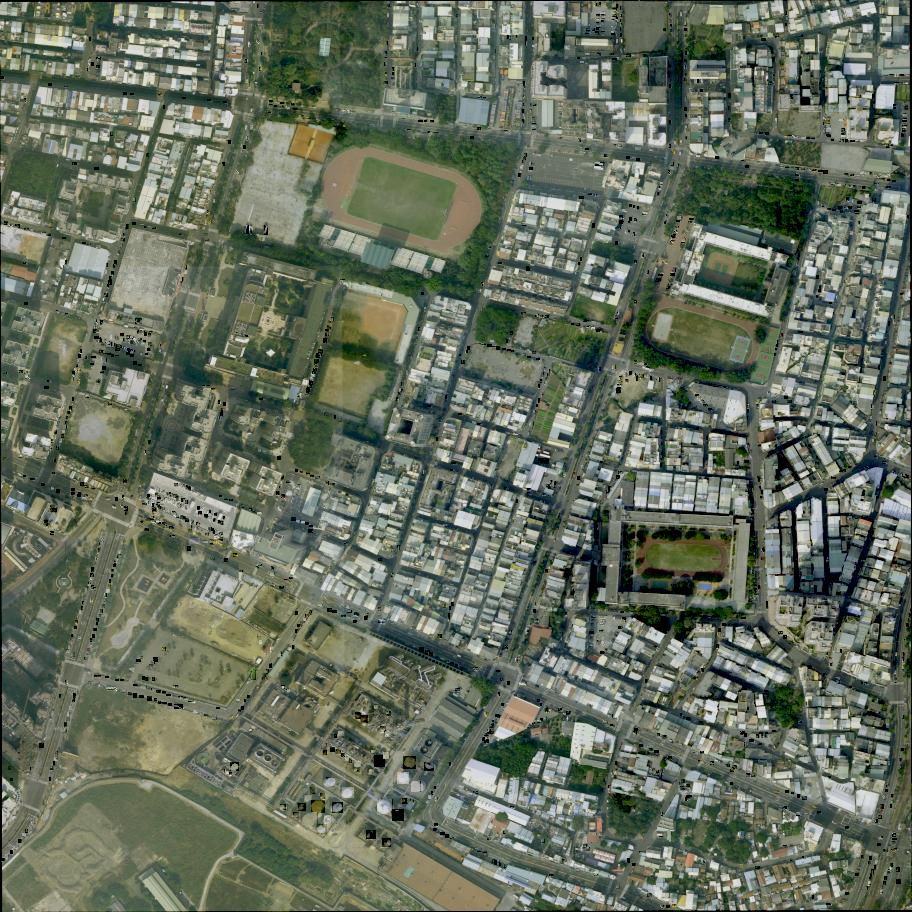large-vehicle: (643, 365, 653, 372), (190, 538, 201, 544), (539, 459, 550, 464), (174, 705, 184, 710), (252, 670, 257, 680), (595, 163, 604, 168), (264, 225, 268, 235), (39, 743, 45, 749), (246, 225, 250, 233), (594, 166, 601, 170), (263, 674, 267, 680), (107, 688, 116, 690), (519, 682, 525, 685), (112, 505, 116, 509), (65, 723, 68, 728), (267, 670, 270, 675), (379, 620, 385, 622), (188, 700, 194, 702), (145, 518, 150, 520), (802, 436, 806, 438), (250, 226, 251, 233), (526, 629, 528, 632), (689, 152, 692, 154), (642, 254, 644, 257), (95, 675, 100, 676), (696, 155, 698, 157), (301, 394, 302, 397), (298, 394, 299, 397), (516, 660, 517, 663), (680, 152, 681, 155), (681, 13, 681, 14), (174, 686, 175, 686)
small-vehicle: (442, 603, 447, 609), (316, 353, 321, 359), (124, 506, 129, 512), (896, 867, 901, 873), (896, 879, 901, 885), (185, 518, 190, 523), (153, 657, 158, 662), (278, 652, 283, 657), (218, 542, 223, 547), (354, 612, 359, 617), (425, 650, 430, 655), (487, 729, 492, 734), (489, 724, 494, 729), (318, 349, 323, 354), (16, 224, 21, 229), (778, 631, 783, 636), (783, 635, 788, 640), (900, 473, 905, 478), (346, 617, 352, 621), (66, 717, 70, 723), (883, 376, 887, 382), (530, 421, 534, 427), (173, 494, 178, 498), (183, 499, 187, 504), (213, 530, 217, 535), (216, 530, 220, 535), (220, 521, 224, 526), (188, 486, 192, 491), (188, 507, 192, 512), (277, 456, 282, 460), (184, 270, 188, 275), (163, 508, 168, 512), (134, 662, 139, 666), (136, 659, 141, 663), (187, 546, 191, 551), (144, 528, 149, 532), (271, 583, 276, 587), (210, 557, 215, 561), (233, 553, 238, 557), (473, 791, 478, 795), (494, 860, 498, 865), (281, 475, 285, 480), (327, 608, 332, 612), (378, 607, 382, 612), (250, 125, 254, 130), (228, 140, 232, 145), (328, 320, 333, 324), (307, 385, 312, 389), (309, 381, 313, 386), (331, 317, 335, 322), (341, 280, 345, 285), (311, 373, 316, 377), (326, 331, 330, 336), (96, 245, 101, 249), (108, 280, 112, 285), (104, 293, 108, 298), (162, 100, 166, 105), (93, 329, 97, 334), (118, 550, 122, 555), (102, 604, 106, 609), (63, 728, 67, 733), (71, 702, 75, 707), (69, 706, 73, 711), (128, 692, 133, 696), (134, 693, 138, 698), (78, 354, 82, 359), (3, 457, 8, 461), (115, 348, 120, 352), (56, 446, 60, 451), (797, 794, 802, 798), (812, 847, 816, 852), (892, 833, 896, 838), (883, 881, 887, 886), (725, 764, 730, 768), (663, 735, 667, 740), (710, 761, 714, 766), (755, 867, 760, 871), (683, 849, 688, 853), (874, 390, 878, 395), (866, 194, 870, 199), (857, 200, 862, 204), (88, 58, 92, 63), (824, 171, 829, 175), (839, 139, 844, 143), (826, 128, 831, 132), (546, 484, 550, 489), (213, 541, 219, 544), (24, 228, 30, 231), (94, 336, 100, 339), (155, 493, 159, 497), (164, 498, 168, 502), (190, 487, 194, 491), (191, 521, 195, 525), (205, 514, 209, 518), (214, 513, 218, 517), (155, 504, 159, 508), (175, 483, 179, 487), (262, 450, 266, 454), (198, 511, 202, 515), (153, 497, 157, 501), (156, 502, 160, 506), (162, 647, 166, 651), (131, 667, 135, 671), (129, 668, 133, 672), (241, 706, 245, 710), (259, 641, 263, 645), (276, 638, 280, 642), (213, 715, 217, 719), (100, 684, 104, 688), (145, 677, 149, 681), (217, 536, 221, 540), (203, 553, 207, 557), (188, 529, 192, 533), (271, 572, 275, 576), (224, 559, 228, 563), (150, 516, 154, 520), (162, 522, 166, 526), (151, 521, 155, 525), (446, 834, 450, 838), (434, 823, 438, 827), (308, 529, 312, 533), (535, 685, 539, 689), (420, 648, 424, 652), (429, 652, 433, 656), (507, 681, 511, 685), (498, 715, 502, 719), (190, 242, 194, 246), (307, 388, 311, 392), (313, 368, 317, 372), (148, 697, 152, 701), (146, 154, 150, 158), (97, 66, 101, 70), (19, 370, 23, 374), (132, 222, 136, 226), (106, 589, 110, 593), (90, 573, 94, 577), (115, 497, 119, 501), (10, 851, 14, 855), (86, 653, 90, 657), (12, 816, 16, 820), (134, 337, 138, 341), (134, 361, 138, 365), (99, 350, 103, 354), (81, 482, 85, 486), (126, 352, 130, 356), (59, 440, 63, 444), (516, 495, 520, 499), (783, 806, 787, 810), (796, 812, 800, 816), (756, 734, 760, 738), (704, 665, 708, 669), (789, 641, 793, 645), (845, 826, 849, 830), (757, 476, 761, 480), (686, 784, 690, 788), (681, 779, 685, 783), (644, 746, 648, 750), (714, 384, 718, 388), (869, 415, 873, 419), (848, 205, 852, 209), (836, 680, 840, 684), (91, 62, 95, 66), (160, 489, 163, 494), (214, 518, 217, 523), (239, 505, 244, 508), (151, 502, 154, 507), (309, 610, 312, 615), (172, 695, 177, 698), (143, 676, 146, 681), (152, 677, 155, 682), (208, 539, 213, 542), (296, 611, 299, 616), (493, 859, 496, 864), (321, 601, 326, 604), (353, 620, 358, 623), (482, 737, 485, 742), (325, 412, 328, 417), (285, 106, 290, 109), (318, 353, 323, 356), (94, 168, 99, 171), (44, 386, 49, 389), (91, 585, 94, 590), (83, 596, 86, 601), (139, 498, 144, 501), (50, 532, 55, 535), (90, 643, 93, 648), (139, 696, 144, 699), (93, 634, 96, 639), (81, 484, 86, 487), (55, 430, 58, 435), (812, 807, 817, 810), (875, 859, 878, 864), (891, 799, 894, 804), (787, 400, 792, 403), (891, 315, 894, 320), (903, 107, 908, 110), (850, 140, 855, 143), (176, 497, 179, 501), (182, 499, 185, 503), (175, 502, 178, 506), (155, 488, 158, 492), (218, 521, 221, 525), (186, 485, 189, 489), (258, 449, 262, 452), (224, 403, 227, 407), (207, 386, 211, 389), (148, 494, 151, 498), (220, 533, 224, 536), (218, 532, 221, 536), (162, 507, 165, 511), (139, 656, 143, 659), (193, 711, 197, 714), (137, 657, 141, 660), (301, 622, 304, 626), (168, 703, 172, 706), (115, 679, 119, 682), (157, 690, 160, 694), (205, 533, 209, 536), (164, 525, 167, 529), (193, 532, 197, 535), (450, 836, 454, 839), (460, 785, 464, 788), (333, 611, 337, 614), (429, 796, 432, 800), (276, 491, 279, 495), (281, 495, 285, 498), (364, 617, 368, 620), (365, 614, 369, 617), (478, 848, 481, 852), (537, 699, 541, 702), (473, 668, 477, 671), (438, 634, 441, 638), (491, 732, 495, 735), (498, 692, 501, 696), (456, 689, 460, 692), (544, 716, 547, 720), (384, 81, 387, 85), (215, 173, 218, 177), (245, 126, 248, 130), (226, 137, 229, 141), (315, 360, 319, 363), (325, 329, 329, 332), (338, 417, 341, 421), (295, 469, 299, 472), (316, 476, 319, 480), (335, 109, 339, 112), (329, 319, 333, 322), (328, 325, 331, 329), (324, 338, 327, 342), (313, 371, 316, 375), (48, 84, 52, 87), (73, 162, 77, 165), (4, 222, 8, 225), (24, 303, 28, 306), (82, 242, 86, 245), (145, 332, 148, 336), (148, 343, 152, 346), (127, 335, 130, 339), (64, 401, 67, 405), (25, 376, 29, 379), (108, 584, 111, 588), (84, 495, 88, 498), (57, 489, 60, 493), (41, 483, 45, 486), (9, 766, 12, 770), (68, 645, 71, 649), (82, 602, 85, 606), (6, 855, 9, 859), (100, 321, 103, 325), (121, 333, 124, 337), (62, 431, 66, 434), (85, 395, 89, 398), (61, 434, 64, 438), (71, 492, 75, 495), (76, 364, 79, 368), (775, 790, 779, 793), (731, 782, 734, 786), (802, 797, 806, 800), (758, 585, 761, 589), (750, 739, 754, 742), (881, 889, 884, 893), (894, 678, 897, 682), (887, 871, 890, 875), (856, 873, 859, 877), (884, 849, 888, 852), (730, 770, 734, 773), (732, 766, 736, 769), (639, 744, 643, 747), (649, 748, 653, 751), (666, 906, 670, 909), (660, 905, 664, 908), (685, 797, 688, 801), (681, 787, 685, 790), (633, 732, 637, 735), (657, 733, 661, 736), (774, 394, 778, 397), (818, 289, 821, 293), (785, 396, 788, 400), (700, 401, 704, 404), (851, 232, 854, 236), (821, 203, 824, 207), (832, 209, 836, 212), (906, 623, 909, 627), (828, 575, 832, 578), (760, 626, 763, 630), (722, 623, 726, 626), (832, 476, 836, 479), (844, 469, 847, 473), (824, 489, 828, 492), (826, 558, 829, 562), (902, 128, 906, 131), (865, 682, 868, 686), (837, 649, 840, 653), (761, 38, 765, 41), (812, 169, 816, 172), (841, 128, 845, 131), (230, 387, 235, 389), (169, 526, 174, 528), (170, 535, 175, 537), (341, 615, 346, 617), (330, 483, 335, 485), (306, 117, 311, 119), (275, 102, 280, 104), (109, 256, 111, 261), (137, 339, 142, 341), (64, 425, 66, 430), (754, 588, 756, 593), (756, 404, 758, 409), (703, 383, 708, 385), (888, 321, 890, 326), (845, 211, 850, 213), (886, 186, 891, 188), (729, 93, 731, 98), (183, 517, 186, 520), (150, 664, 153, 667), (147, 498, 150, 501), (295, 583, 298, 586), (157, 520, 160, 523), (434, 829, 437, 832), (426, 800, 429, 803), (293, 494, 296, 497), (292, 518, 295, 521), (447, 617, 450, 620), (485, 733, 488, 736), (489, 735, 492, 738), (316, 356, 319, 359), (326, 482, 329, 485), (311, 377, 314, 380), (371, 124, 374, 127), (155, 699, 158, 702), (148, 349, 151, 352), (148, 345, 151, 348), (83, 497, 86, 500), (106, 497, 109, 500), (10, 779, 13, 782), (23, 833, 26, 836), (131, 354, 134, 357), (109, 402, 112, 405), (379, 558, 382, 561), (747, 773, 750, 776), (808, 444, 811, 447), (796, 646, 799, 649), (878, 815, 881, 818), (687, 717, 690, 720), (716, 645, 719, 648), (648, 894, 651, 897), (660, 464, 663, 467), (883, 461, 886, 464), (873, 199, 876, 202), (902, 664, 905, 667), (815, 462, 818, 465), (828, 579, 831, 582), (825, 590, 828, 593), (746, 166, 749, 169), (796, 167, 799, 170), (221, 412, 223, 416), (151, 500, 155, 502), (177, 513, 179, 517), (167, 508, 169, 512), (270, 664, 272, 668), (200, 713, 204, 715), (214, 710, 218, 712), (216, 707, 220, 709), (143, 687, 147, 689), (167, 694, 171, 696), (441, 832, 445, 834), (318, 604, 322, 606), (446, 660, 450, 662), (429, 636, 433, 638), (451, 602, 453, 606), (503, 685, 505, 689), (537, 721, 541, 723), (245, 59, 247, 63), (387, 13, 389, 17), (269, 100, 273, 102), (163, 105, 165, 109), (223, 162, 225, 166), (310, 475, 314, 477), (62, 237, 66, 239), (158, 93, 162, 95), (115, 260, 117, 264), (148, 333, 150, 337), (163, 29, 167, 31), (121, 243, 123, 247), (109, 579, 111, 583), (121, 541, 123, 545), (81, 606, 83, 610), (100, 609, 102, 613), (89, 582, 91, 586), (140, 495, 144, 497), (149, 331, 153, 333), (110, 334, 112, 338), (164, 352, 166, 356), (138, 364, 142, 366), (131, 340, 133, 344), (90, 363, 94, 365), (92, 356, 96, 358), (77, 495, 81, 497), (788, 859, 792, 861), (854, 878, 856, 882), (761, 734, 763, 738), (766, 601, 768, 605), (890, 804, 892, 808), (888, 761, 890, 765), (874, 865, 876, 869), (892, 838, 896, 840), (699, 759, 703, 761), (704, 616, 708, 618), (576, 869, 580, 871), (678, 786, 680, 790), (652, 768, 654, 772), (772, 401, 776, 403), (816, 275, 818, 279), (706, 436, 708, 440), (841, 282, 843, 286), (798, 331, 802, 333), (862, 187, 866, 189), (844, 208, 848, 210), (838, 207, 842, 209), (895, 652, 897, 656), (742, 617, 746, 619), (775, 124, 777, 128), (873, 94, 875, 98), (840, 649, 842, 653), (869, 66, 871, 70), (756, 162, 760, 164), (795, 179, 799, 181), (765, 133, 769, 135), (839, 119, 843, 121), (841, 133, 845, 135), (826, 125, 830, 127), (538, 384, 540, 388), (546, 377, 548, 381), (171, 493, 173, 496), (166, 498, 168, 501), (211, 529, 214, 531), (198, 507, 200, 510), (179, 483, 181, 486), (258, 512, 261, 514), (149, 441, 151, 444), (260, 398, 263, 400), (273, 409, 276, 411), (153, 509, 156, 511), (168, 510, 170, 513), (190, 520, 192, 523), (134, 684, 137, 686), (106, 676, 109, 678), (152, 662, 155, 664), (148, 688, 151, 690), (162, 691, 165, 693), (304, 618, 306, 621), (196, 550, 199, 552), (296, 629, 298, 632), (280, 587, 283, 589), (256, 566, 259, 568), (348, 610, 351, 612), (504, 864, 506, 867), (314, 527, 317, 529), (451, 662, 454, 664), (398, 546, 400, 549), (485, 737, 487, 740), (484, 740, 486, 743), (495, 715, 498, 717), (281, 102, 284, 104), (293, 108, 296, 110), (206, 239, 209, 241), (206, 220, 208, 223), (314, 362, 316, 365), (351, 111, 354, 113), (317, 118, 320, 120), (224, 101, 227, 103), (8, 224, 11, 226), (48, 234, 51, 236), (127, 225, 129, 228), (105, 271, 107, 274), (109, 277, 111, 280), (77, 311, 80, 313), (62, 406, 64, 409), (111, 132, 113, 135), (122, 239, 125, 241), (114, 561, 116, 564), (85, 588, 87, 591), (90, 578, 92, 581), (52, 488, 55, 490), (144, 503, 147, 505), (49, 777, 51, 780), (51, 767, 53, 770), (19, 840, 21, 843), (72, 699, 74, 702), (123, 690, 126, 692), (89, 682, 92, 684), (13, 847, 15, 850), (16, 844, 18, 847), (32, 821, 34, 824), (1, 859, 4, 861), (86, 485, 89, 487), (87, 377, 90, 379), (134, 327, 137, 329), (141, 341, 143, 344), (100, 339, 102, 342), (104, 351, 107, 353), (108, 353, 111, 355), (112, 355, 115, 357), (72, 488, 75, 490), (78, 493, 81, 495), (73, 479, 76, 481), (80, 350, 82, 353), (78, 368, 81, 370), (73, 371, 75, 374), (444, 524, 447, 526), (869, 881, 871, 884), (761, 490, 763, 493), (789, 500, 792, 502), (881, 805, 883, 808), (902, 748, 904, 751), (894, 662, 896, 665), (861, 682, 864, 684), (832, 822, 835, 824), (865, 887, 867, 890), (877, 844, 880, 846), (669, 756, 672, 758), (821, 280, 823, 283), (710, 411, 713, 413), (830, 663, 832, 666), (900, 293, 903, 295), (887, 179, 890, 181), (858, 206, 861, 208), (827, 208, 830, 210), (816, 456, 818, 459), (907, 573, 909, 576), (902, 658, 904, 661), (765, 732, 768, 734), (760, 732, 763, 734), (903, 473, 905, 476), (870, 531, 872, 534), (851, 174, 854, 176), (775, 118, 777, 121), (728, 119, 730, 122), (786, 166, 789, 168), (823, 130, 825, 133), (831, 139, 834, 141), (845, 140, 848, 142), (842, 135, 845, 137), (754, 133, 757, 135), (798, 136, 801, 138), (826, 132, 829, 134), (527, 489, 530, 491), (203, 542, 208, 543), (654, 751, 659, 752), (903, 105, 908, 106), (883, 75, 888, 76), (902, 121, 907, 122), (895, 74, 900, 75), (159, 702, 161, 704), (210, 528, 212, 530), (223, 516, 225, 518), (182, 484, 183, 488), (253, 510, 255, 512), (219, 400, 220, 404), (224, 498, 228, 499), (209, 517, 211, 519), (138, 685, 140, 687), (271, 648, 273, 650), (204, 715, 208, 716), (121, 680, 123, 682), (214, 537, 216, 539), (140, 521, 142, 523), (158, 498, 160, 500), (272, 567, 274, 569), (186, 265, 187, 269), (280, 482, 282, 484), (306, 523, 308, 525), (354, 615, 356, 617), (434, 787, 436, 789), (540, 719, 542, 721), (449, 613, 450, 617), (309, 384, 311, 386), (306, 391, 308, 393), (49, 227, 51, 229), (25, 98, 26, 102), (87, 67, 88, 71), (97, 58, 101, 59), (145, 353, 147, 355), (60, 314, 64, 315), (4, 372, 6, 374), (25, 371, 27, 373), (47, 380, 49, 382), (99, 615, 101, 617), (124, 480, 126, 482), (144, 451, 146, 453), (123, 496, 124, 500), (99, 548, 100, 552), (97, 553, 99, 555), (95, 629, 97, 631), (55, 757, 57, 759), (63, 732, 64, 736), (87, 649, 89, 651), (75, 627, 77, 629), (80, 610, 81, 614), (96, 623, 98, 625), (73, 653, 74, 657), (24, 475, 26, 477), (159, 350, 161, 352), (50, 446, 52, 448), (54, 458, 55, 462), (131, 496, 133, 498), (107, 346, 111, 347), (70, 407, 72, 409), (51, 439, 52, 443), (759, 743, 761, 745), (786, 791, 788, 793), (800, 720, 802, 722), (754, 598, 756, 600), (761, 549, 763, 551), (809, 666, 811, 668), (741, 732, 743, 734), (876, 820, 878, 822), (861, 856, 863, 858), (702, 669, 704, 671), (719, 628, 720, 632), (617, 886, 619, 888), (672, 905, 676, 906), (740, 865, 744, 866), (688, 796, 690, 798), (682, 614, 684, 616), (818, 275, 819, 279), (830, 302, 832, 304), (744, 461, 748, 462), (797, 258, 799, 260), (834, 312, 835, 316), (875, 455, 877, 457), (840, 211, 842, 213), (872, 440, 874, 442), (893, 180, 895, 182), (858, 222, 860, 224), (849, 593, 851, 595), (899, 602, 901, 604), (897, 639, 898, 643), (838, 604, 839, 608), (861, 558, 862, 562), (829, 578, 833, 579), (822, 472, 824, 474), (849, 466, 851, 468), (825, 518, 826, 522), (870, 172, 872, 174), (894, 107, 896, 109), (902, 118, 906, 119), (903, 125, 907, 126), (887, 146, 889, 148), (836, 648, 837, 652), (773, 58, 775, 60), (883, 144, 887, 145), (819, 170, 823, 171), (847, 185, 849, 187), (819, 83, 821, 85), (823, 118, 825, 120), (826, 123, 830, 124), (826, 135, 830, 136), (617, 39, 618, 43), (539, 399, 540, 403), (694, 678, 697, 679), (182, 506, 183, 509), (158, 489, 159, 492), (198, 523, 199, 526), (208, 510, 209, 513), (229, 500, 232, 501), (284, 445, 285, 448), (222, 408, 223, 411), (210, 510, 211, 513), (222, 522, 223, 525), (181, 516, 182, 519), (219, 718, 222, 719), (183, 698, 186, 699), (220, 538, 223, 539), (162, 491, 163, 494), (239, 571, 242, 572), (289, 578, 292, 579), (500, 863, 501, 866), (550, 875, 553, 876), (488, 838, 491, 839), (432, 792, 433, 795), (302, 522, 305, 523), (297, 521, 300, 522), (392, 573, 393, 576), (450, 607, 451, 610), (287, 482, 290, 483), (259, 68, 260, 71), (386, 51, 387, 54), (393, 68, 394, 71), (257, 5, 258, 8), (244, 146, 245, 149), (209, 220, 210, 223), (214, 200, 215, 203), (209, 191, 210, 194), (223, 213, 224, 216), (280, 106, 283, 107), (310, 379, 311, 382), (312, 107, 315, 108), (328, 328, 331, 329), (1, 77, 4, 78), (183, 97, 186, 98), (207, 99, 210, 100), (88, 243, 91, 244), (124, 93, 127, 94), (89, 38, 90, 41), (66, 261, 67, 264), (113, 264, 114, 267), (197, 65, 200, 66), (179, 234, 182, 235), (94, 588, 95, 591), (105, 593, 106, 596), (114, 564, 115, 567), (112, 574, 113, 577), (102, 538, 103, 541), (26, 829, 27, 832), (54, 762, 55, 765), (56, 752, 57, 755), (68, 713, 69, 716), (74, 694, 75, 697), (67, 651, 68, 654), (103, 367, 106, 368), (103, 339, 104, 342), (72, 378, 73, 381), (20, 456, 23, 457), (108, 342, 109, 345), (753, 521, 754, 524), (753, 570, 754, 573), (766, 606, 767, 609), (892, 794, 893, 797), (881, 811, 882, 814), (882, 886, 883, 889), (846, 893, 849, 894), (872, 871, 873, 874), (891, 864, 892, 867), (885, 877, 886, 880), (870, 856, 871, 859), (812, 896, 813, 899), (687, 788, 690, 789), (700, 752, 703, 753), (694, 752, 697, 753), (708, 616, 711, 617), (819, 286, 820, 289), (782, 333, 783, 336), (767, 391, 768, 394), (777, 344, 778, 347), (661, 431, 662, 434), (699, 399, 702, 400), (709, 409, 712, 410), (723, 387, 726, 388), (856, 212, 859, 213), (885, 418, 888, 419), (881, 179, 884, 180), (859, 186, 862, 187), (875, 432, 876, 435), (764, 691, 767, 692), (846, 514, 849, 515), (873, 100, 874, 103), (872, 105, 873, 108), (807, 137, 810, 138), (811, 137, 814, 138), (716, 157, 719, 158), (796, 174, 799, 175), (827, 136, 830, 137), (541, 380, 542, 383), (549, 485, 550, 488), (176, 496, 178, 497), (180, 498, 181, 500), (160, 497, 161, 499), (162, 497, 163, 499), (169, 499, 171, 500), (171, 501, 173, 502), (178, 504, 179, 506), (184, 507, 185, 509), (211, 513, 212, 515), (184, 485, 185, 487), (249, 510, 251, 511), (197, 511, 198, 513), (160, 503, 162, 504), (153, 505, 154, 507), (158, 506, 160, 507), (159, 507, 160, 509), (245, 699, 246, 701), (239, 710, 241, 711), (238, 700, 240, 701), (307, 615, 308, 617), (297, 626, 299, 627), (159, 494, 161, 495), (276, 585, 277, 587), (292, 646, 294, 647), (498, 861, 500, 862), (541, 704, 542, 706), (440, 635, 441, 637), (501, 678, 502, 680), (546, 709, 547, 711), (511, 807, 513, 808), (487, 740, 488, 742), (503, 704, 504, 706), (485, 713, 487, 714), (297, 484, 299, 485), (249, 43, 250, 45), (257, 40, 258, 42), (388, 4, 389, 6), (392, 78, 394, 79), (275, 105, 276, 107), (306, 473, 308, 474), (306, 393, 308, 394), (301, 472, 303, 473), (321, 347, 322, 349), (315, 365, 317, 366), (134, 199, 135, 201), (64, 266, 65, 268), (108, 285, 109, 287), (143, 332, 144, 334), (140, 331, 142, 332), (138, 331, 139, 333), (112, 272, 113, 274), (118, 251, 119, 253), (62, 411, 63, 413), (117, 556, 118, 558), (113, 569, 114, 571), (104, 599, 105, 601), (97, 620, 98, 622), (91, 639, 92, 641), (53, 473, 55, 474), (92, 569, 93, 571), (60, 696, 61, 698), (72, 635, 73, 637), (103, 369, 105, 370), (144, 341, 146, 342), (121, 346, 122, 348), (101, 371, 103, 372), (78, 360, 79, 362), (129, 350, 130, 352), (72, 399, 73, 401), (57, 426, 58, 428), (100, 337, 101, 339), (105, 359, 106, 361), (818, 812, 820, 813), (752, 525, 753, 527), (761, 558, 762, 560), (827, 653, 828, 655), (830, 658, 832, 659), (895, 848, 896, 850), (886, 789, 887, 791), (892, 850, 894, 851), (868, 863, 869, 865), (802, 857, 804, 858), (788, 845, 790, 846), (759, 487, 761, 488), (759, 480, 760, 482), (680, 714, 682, 715), (635, 729, 637, 730), (690, 795, 692, 796), (737, 462, 739, 463), (775, 354, 776, 356), (749, 454, 750, 456), (712, 616, 714, 617), (907, 216, 908, 218), (847, 198, 848, 200), (835, 626, 836, 628), (834, 629, 835, 631), (743, 732, 744, 734), (877, 496, 878, 498), (907, 476, 908, 478), (905, 475, 906, 477), (870, 535, 871, 537), (904, 83, 906, 84), (902, 133, 904, 134), (800, 35, 802, 36), (787, 18, 788, 20), (780, 165, 782, 166), (828, 183, 829, 185), (832, 183, 834, 184), (843, 184, 845, 185), (760, 133, 762, 134), (621, 49, 622, 51), (537, 404, 538, 406), (553, 486, 554, 488), (173, 502, 174, 503), (179, 506, 180, 507), (196, 524, 197, 525), (248, 696, 249, 697), (258, 638, 259, 639), (186, 502, 187, 503), (170, 493, 171, 494), (436, 798, 437, 799), (279, 486, 280, 487), (489, 733, 490, 734), (550, 710, 551, 711), (386, 56, 387, 57), (145, 227, 146, 228), (24, 262, 25, 263), (56, 311, 57, 312), (125, 514, 126, 515), (95, 559, 96, 560), (85, 658, 86, 659), (70, 640, 71, 641), (77, 621, 78, 622), (97, 380, 98, 381), (96, 321, 97, 322), (128, 340, 129, 341), (135, 342, 136, 343), (132, 350, 133, 351), (128, 349, 129, 350), (134, 351, 135, 352), (119, 345, 120, 346), (69, 412, 70, 413), (752, 775, 753, 776), (903, 668, 904, 669), (870, 878, 871, 879), (657, 771, 658, 772), (661, 814, 662, 815), (776, 349, 777, 350), (748, 444, 749, 445), (661, 458, 662, 459), (697, 428, 698, 429), (704, 405, 705, 406), (854, 185, 855, 186), (837, 620, 838, 621), (745, 735, 746, 736), (826, 582, 827, 583), (902, 134, 903, 135), (542, 374, 543, 375), (534, 412, 535, 413), (542, 393, 543, 394), (167, 493, 167, 495), (186, 508, 186, 509), (202, 508, 202, 508), (219, 419, 219, 419), (220, 496, 222, 496), (212, 389, 214, 389), (162, 501, 162, 501), (173, 512, 175, 512), (178, 697, 183, 697), (192, 525, 192, 529), (197, 528, 197, 529), (157, 523, 158, 523), (211, 544, 212, 544), (224, 549, 225, 549), (285, 580, 287, 580), (259, 565, 259, 565), (183, 278, 183, 281), (181, 282, 181, 286), (484, 852, 487, 852), (344, 543, 344, 543), (310, 526, 313, 526), (346, 606, 350, 606), (296, 487, 298, 487), (497, 671, 498, 671), (456, 665, 457, 665), (450, 765, 450, 766), (494, 720, 494, 721), (532, 723, 534, 723), (387, 41, 387, 45), (261, 10, 261, 14), (385, 65, 385, 66), (393, 73, 393, 74), (386, 73, 386, 73), (208, 211, 208, 213), (242, 153, 242, 153), (237, 170, 237, 172), (247, 137, 247, 140), (246, 141, 246, 144), (141, 225, 142, 225), (291, 104, 293, 104), (335, 417, 335, 418), (301, 116, 304, 116), (343, 111, 346, 111), (348, 111, 349, 111), (163, 703, 164, 703), (700, 722, 700, 722), (31, 230, 34, 230), (43, 233, 45, 233), (107, 265, 107, 266), (154, 333, 156, 333), (65, 314, 68, 314), (153, 228, 155, 228), (149, 227, 151, 227), (91, 601, 91, 603), (122, 504, 122, 506), (31, 771, 31, 771), (79, 639, 79, 640), (66, 683, 66, 683), (124, 339, 124, 341), (95, 325, 95, 329), (98, 331, 99, 331), (132, 338, 133, 338), (96, 382, 98, 382), (133, 341, 133, 342), (115, 344, 115, 345), (116, 347, 116, 348), (125, 349, 125, 349), (58, 423, 58, 424), (66, 422, 66, 424), (91, 488, 95, 488), (67, 417, 67, 418), (102, 359, 102, 360), (86, 358, 86, 359), (49, 455, 49, 455), (75, 369, 75, 370), (78, 383, 78, 383), (54, 437, 54, 439), (505, 488, 507, 488), (773, 731, 775, 731), (744, 742, 744, 745), (792, 793, 793, 793), (827, 904, 829, 904), (889, 870, 889, 870), (827, 777, 831, 777), (883, 795, 883, 796), (878, 837, 881, 837), (887, 786, 887, 787), (900, 761, 900, 761), (903, 653, 903, 653), (871, 874, 871, 876), (783, 846, 786, 846), (680, 785, 680, 785), (679, 745, 681, 745), (704, 860, 704, 862), (658, 736, 659, 736), (817, 297, 817, 297), (748, 403, 748, 407), (799, 255, 799, 256), (778, 342, 778, 344), (837, 298, 837, 299), (702, 402, 703, 402), (662, 426, 662, 428), (697, 397, 698, 397), (690, 405, 690, 405), (699, 395, 699, 395), (748, 411, 748, 412), (711, 384, 712, 384), (720, 386, 721, 386), (824, 674, 825, 674), (835, 678, 838, 678), (845, 282, 845, 283), (894, 320, 894, 324), (879, 368, 879, 370), (872, 406, 872, 408), (877, 423, 877, 426), (859, 211, 859, 211), (877, 176, 879, 176), (850, 199, 850, 200), (855, 176, 860, 176), (765, 735, 765, 738), (843, 471, 843, 471), (867, 467, 867, 467), (761, 499, 761, 500), (826, 542, 826, 543), (864, 517, 867, 517), (895, 105, 895, 105), (903, 126, 903, 126), (902, 131, 906, 131), (894, 83, 899, 83), (775, 37, 779, 37), (850, 687, 851, 687), (833, 650, 833, 651), (774, 74, 774, 75), (774, 82, 774, 83), (786, 12, 786, 13), (786, 23, 786, 23), (901, 75, 904, 75), (889, 145, 893, 145), (845, 174, 847, 174), (802, 169, 805, 169), (788, 136, 791, 136), (807, 169, 809, 169), (837, 184, 839, 184), (793, 136, 793, 136), (827, 121, 830, 121), (842, 131, 844, 131), (617, 34, 617, 36), (548, 375, 548, 376), (550, 371, 550, 373), (460, 355, 460, 356), (528, 493, 529, 493), (543, 494, 546, 494)
storage-tank: (377, 799, 395, 816), (302, 813, 318, 828), (403, 756, 417, 770), (312, 801, 326, 815), (398, 772, 411, 784), (342, 787, 355, 799), (393, 810, 405, 822), (374, 756, 386, 767), (332, 802, 343, 813), (316, 824, 327, 835), (326, 777, 336, 788), (230, 762, 240, 772), (411, 781, 420, 792), (298, 803, 307, 812), (424, 762, 434, 770), (367, 830, 375, 839), (304, 795, 312, 803), (383, 839, 391, 847), (362, 715, 369, 723), (324, 816, 331, 824), (135, 318, 143, 325), (356, 712, 363, 719), (355, 761, 362, 768), (293, 812, 300, 819), (310, 787, 317, 794), (280, 804, 286, 811), (384, 753, 390, 759), (338, 731, 344, 736), (386, 731, 391, 737), (402, 798, 407, 804), (381, 727, 386, 732), (374, 705, 379, 710), (320, 794, 325, 799), (330, 747, 335, 752), (345, 757, 350, 761), (327, 744, 332, 748), (53, 509, 58, 513), (44, 520, 48, 524), (349, 759, 352, 763), (354, 768, 358, 771), (369, 770, 372, 774), (337, 750, 341, 753), (324, 751, 327, 755), (282, 685, 285, 689), (387, 712, 390, 715), (117, 316, 120, 319), (125, 318, 128, 321), (129, 319, 132, 322), (51, 506, 54, 509), (222, 769, 225, 772), (226, 771, 229, 774), (286, 689, 289, 692), (335, 734, 337, 738), (45, 525, 49, 527), (371, 750, 373, 753), (120, 317, 122, 320), (229, 773, 232, 775), (245, 335, 248, 337), (342, 754, 344, 756), (242, 334, 243, 336), (358, 770, 359, 771), (411, 799, 411, 801), (413, 801, 413, 802)
